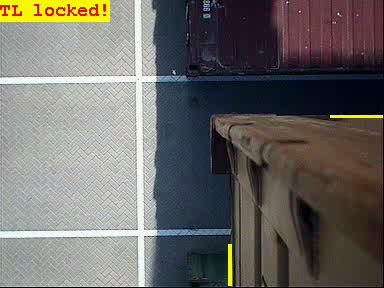groundmarker_2: (141, 74, 204, 109), (143, 192, 206, 227)
